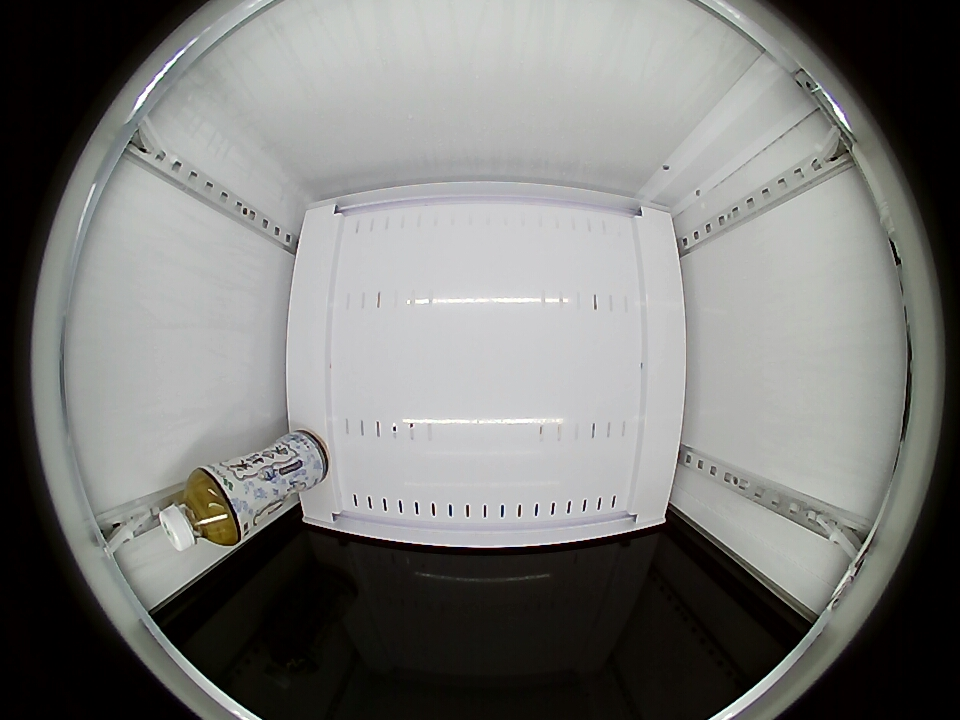baicha: (158, 467, 241, 551)
